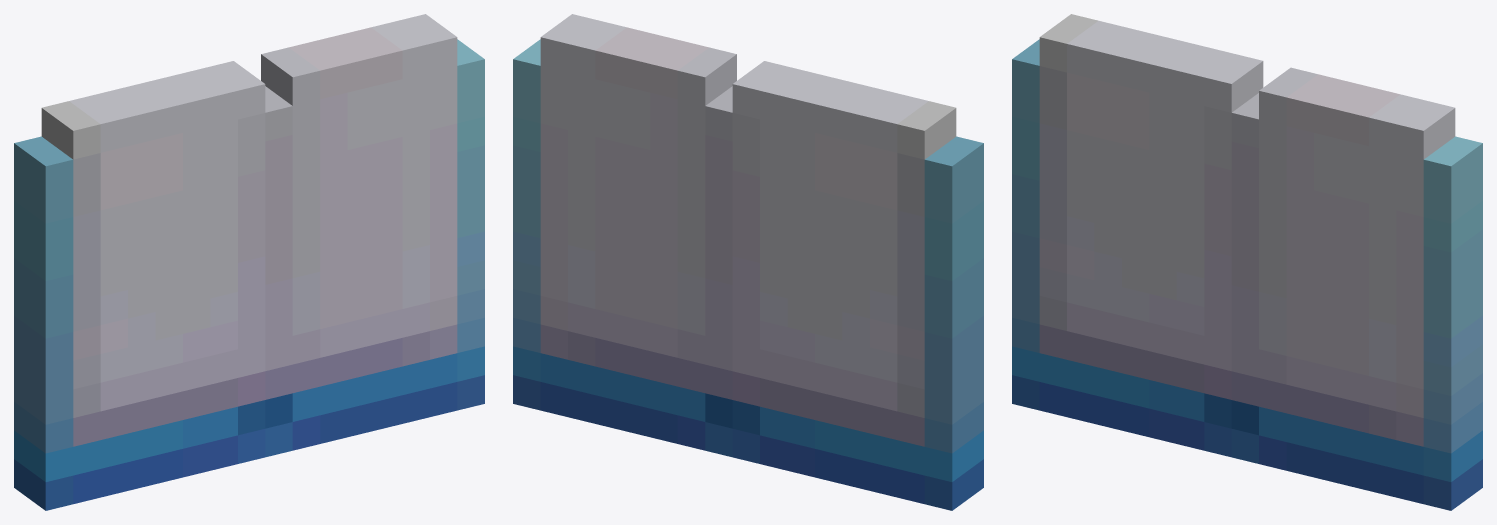
Rendered from open-book.glb.
3 views of the same model, side by side, from view 1: azimuth 30°, elevation 25°; view 2: azimuth 150°, elevation 25°; view 3: azimuth 330°, elevation 25° (orthographic).
Visible parts, largest first — view 1: prop; view 2: prop; view 3: prop.
Part boxes in pixels (left/top/right/bottom): prop: left=14, top=14, right=484, bottom=510; prop: left=513, top=14, right=983, bottom=510; prop: left=1012, top=14, right=1482, bottom=510.
Size of the model in its own units: 16 by 13 by 2.
